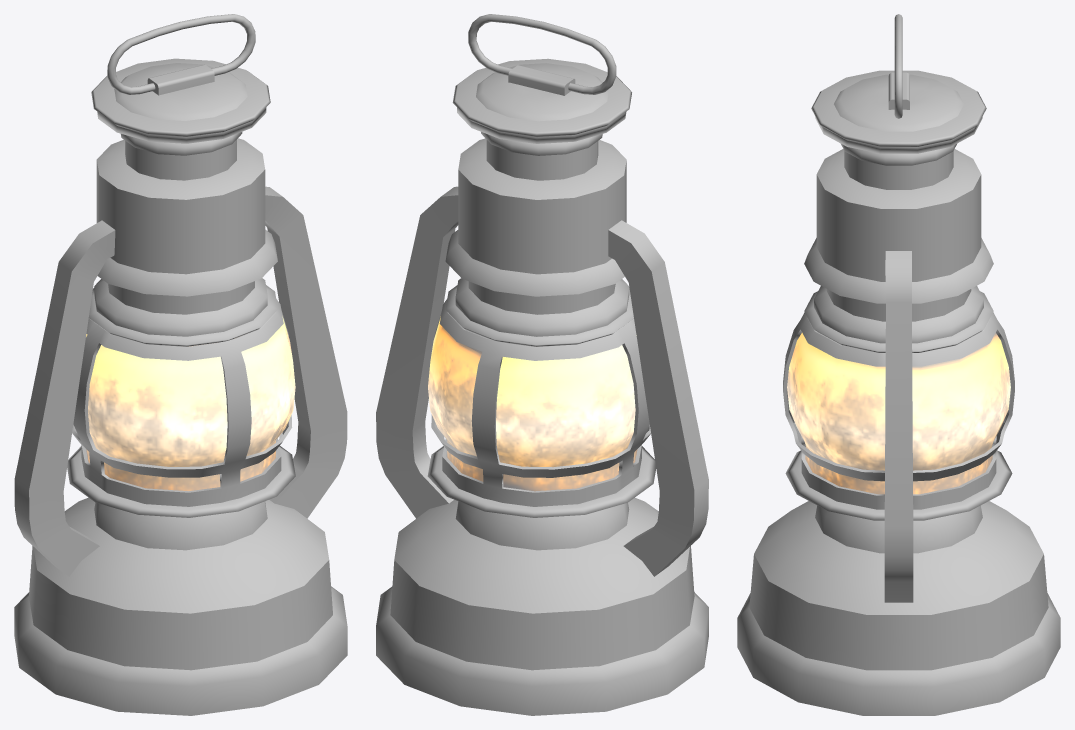
Rendered from Lantern.fbx.
3 renders of one model, left to right at view 1: azimuth 30°, elevation 25°; view 2: azimuth 150°, elevation 25°; view 3: azimuth 270°, elevation 25°, orthographic.
Parts seen in each view (by area): view 1: Lantern; view 2: Lantern; view 3: Lantern.
Boxes of the visible parts, box(x1,y1,x2,y2) form: Lantern: box(14, 14, 347, 715); Lantern: box(376, 14, 708, 715); Lantern: box(737, 14, 1060, 715).
Bounding box in the file's own units: 0.136 × 0.2548 × 0.1218.
